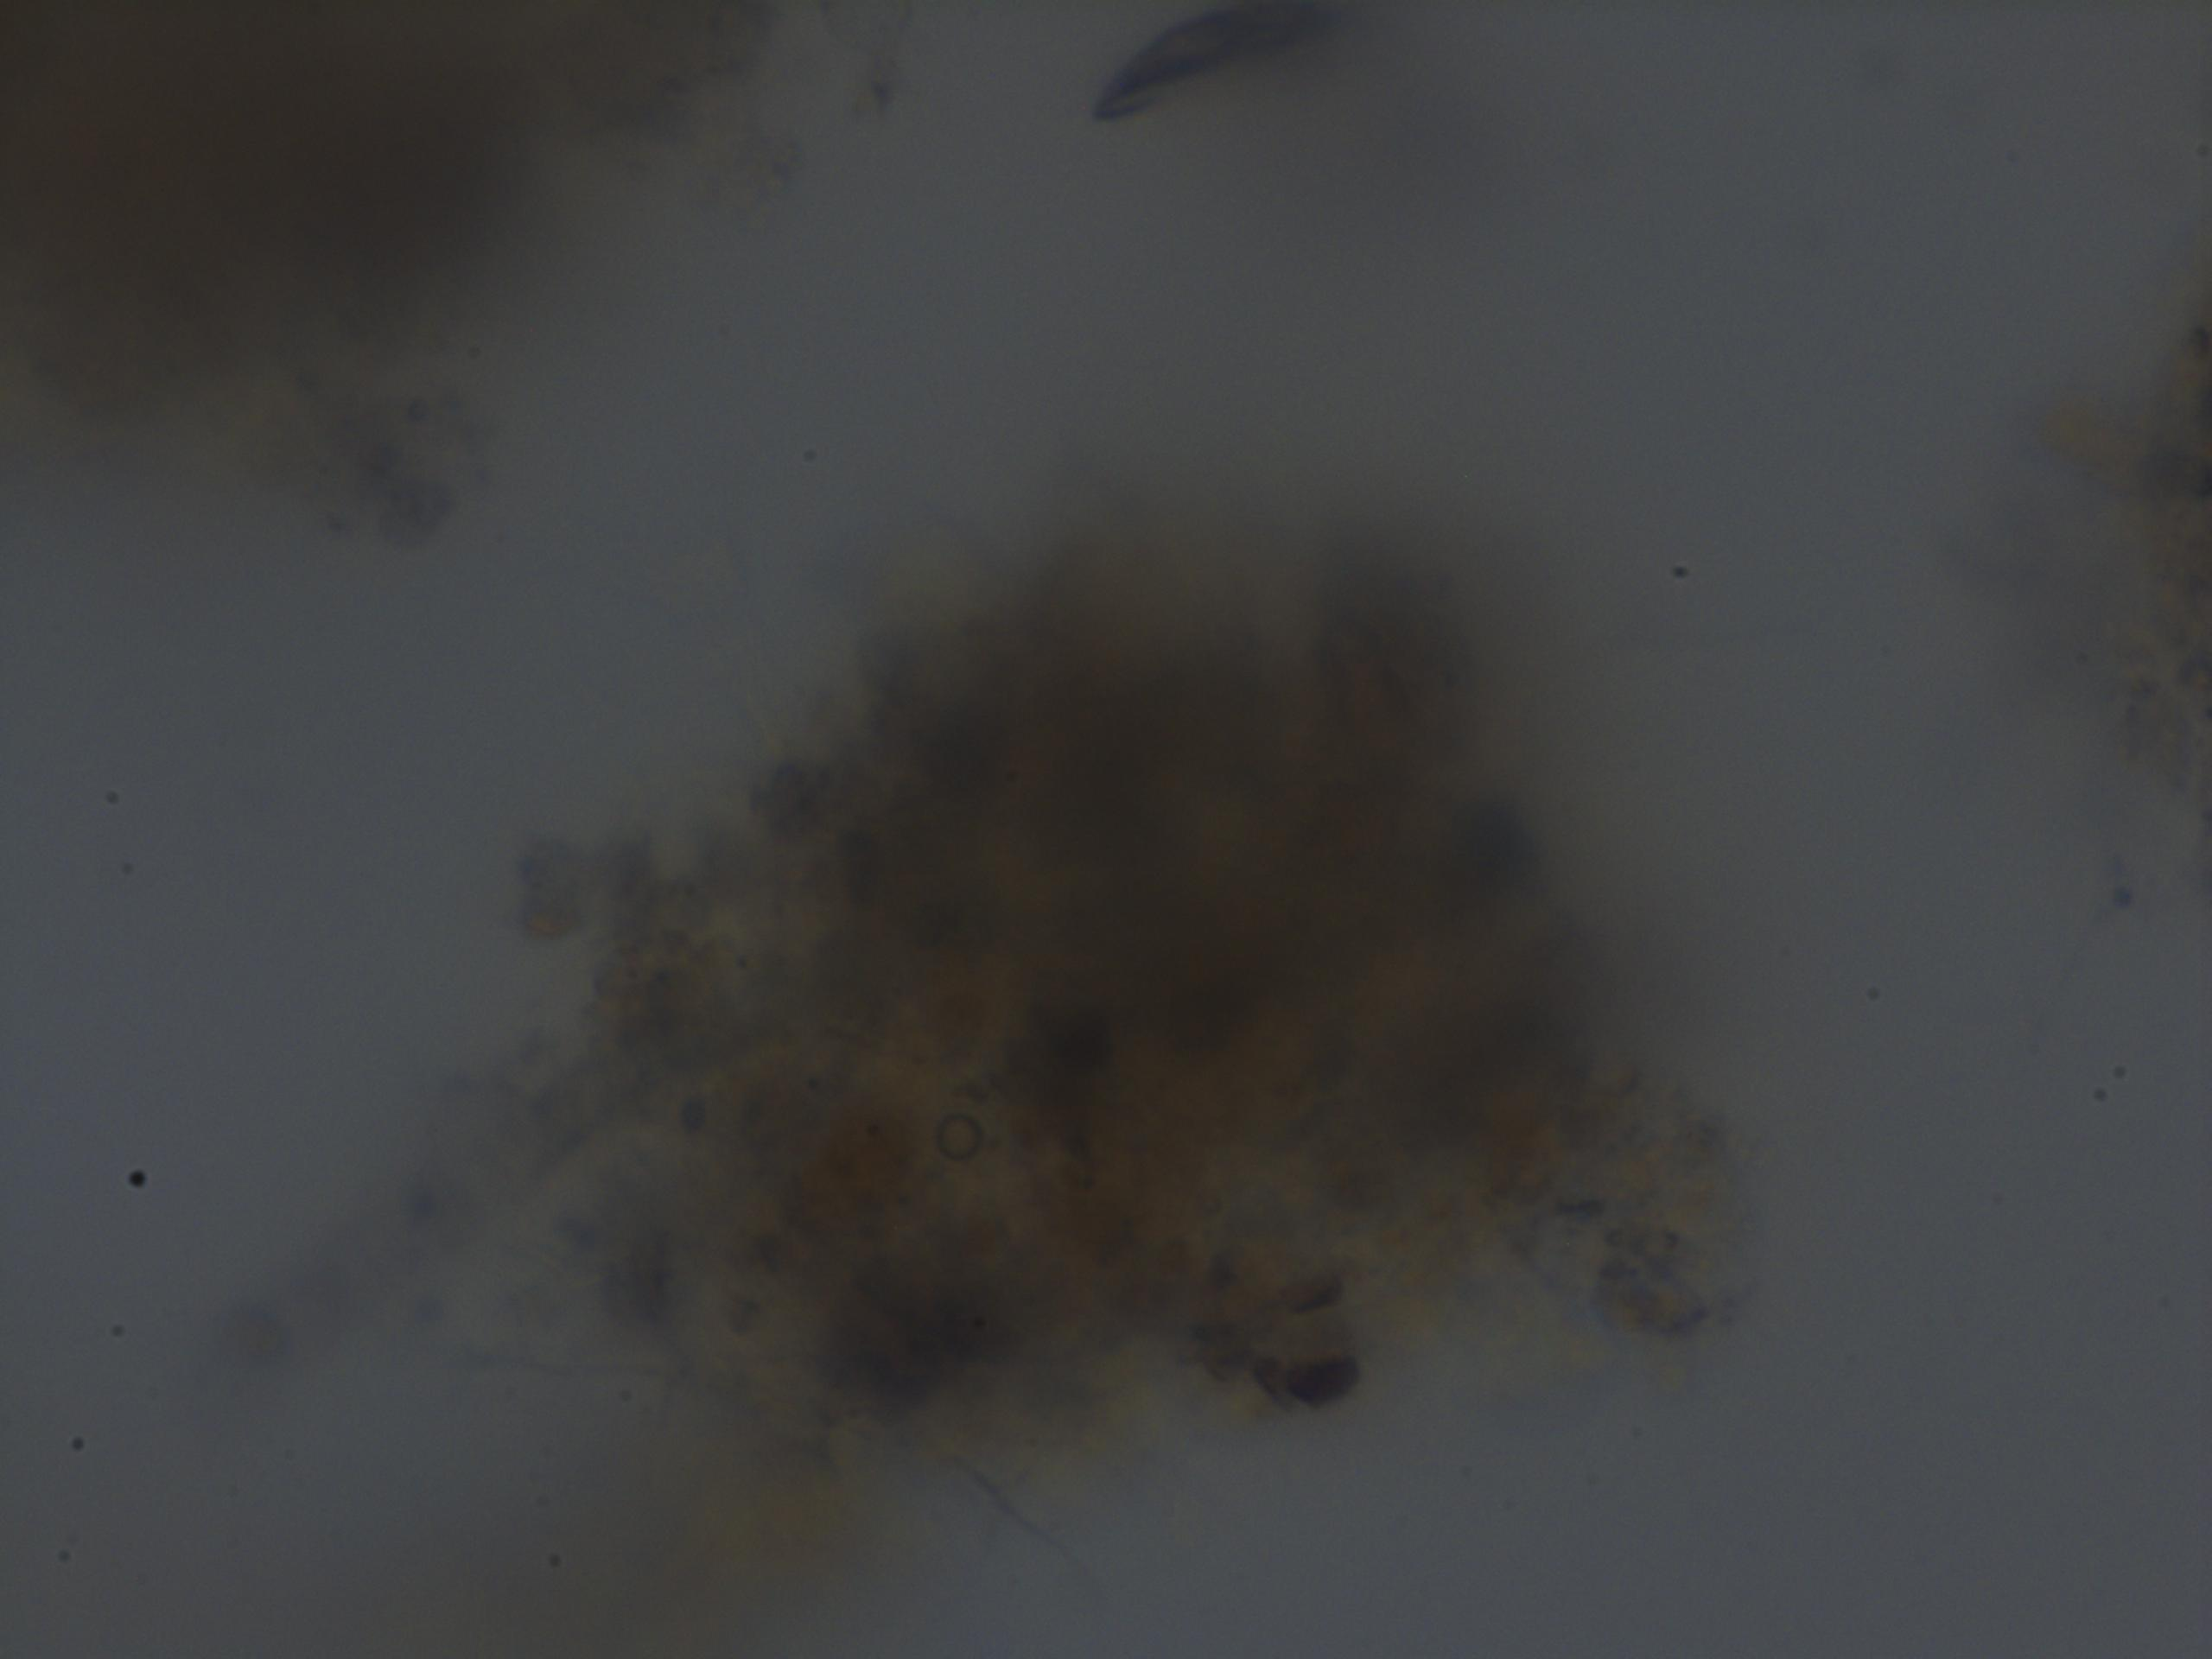spherical_floc: (517, 530, 1761, 1486)
